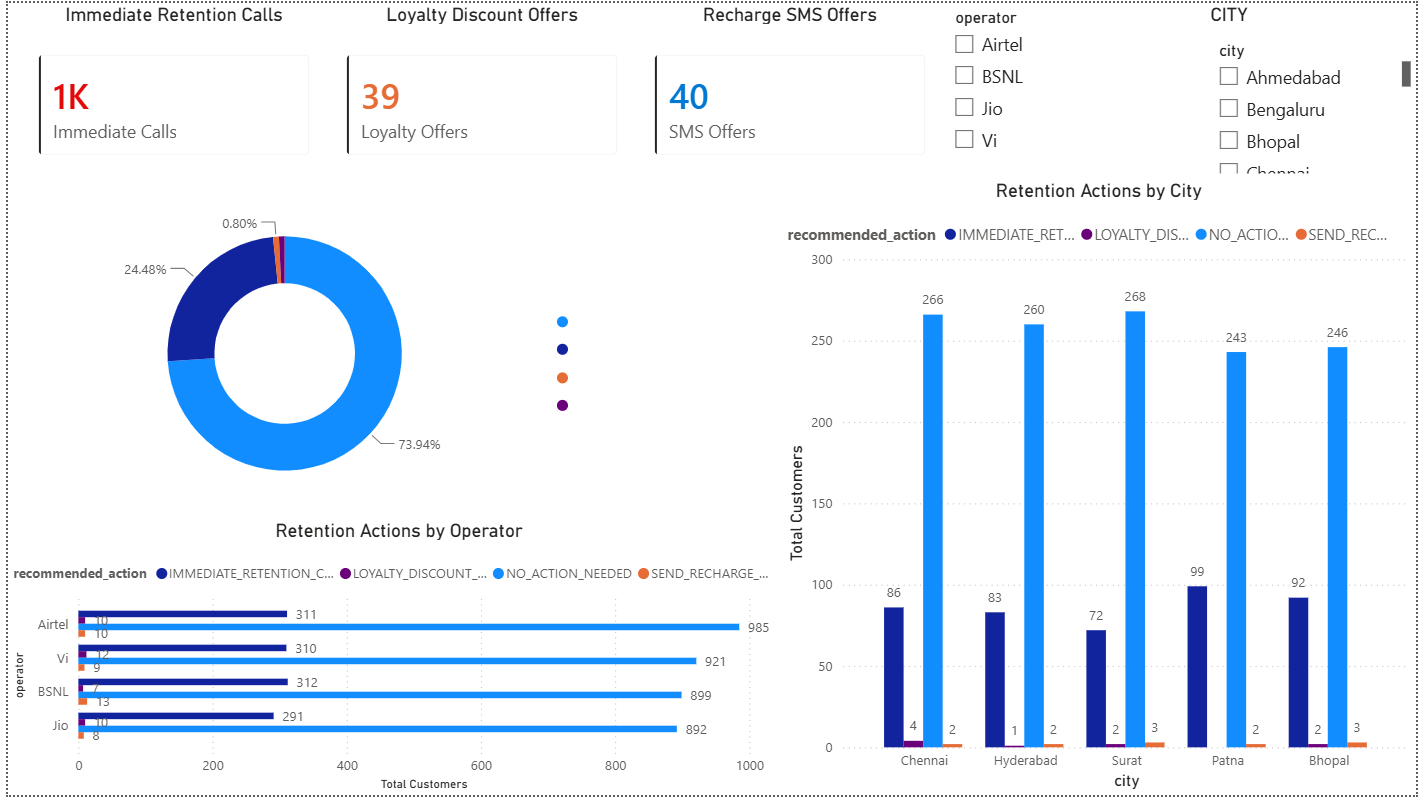

Layout of this report page (visuals, bound fields, positions):
{"tool":"powerbi","page":{"name":"Retention Actions","canvas":[1280,720],"ordinal":3},"visuals":[{"type":"cardVisual","title":"Immediate Retention Calls","fields":{"Data":["fact_churn.Immediate Calls"]},"box":[10.7,0,280,155.2],"z":0},{"type":"cardVisual","title":"Loyalty Discount Offers","fields":{"Data":["fact_churn.Loyalty Offers"]},"box":[290.7,0,280,155],"z":1000},{"type":"cardVisual","title":"Recharge SMS Offers","fields":{"Data":["fact_churn.SMS Offers"]},"box":[570.7,0,280,155],"z":2000},{"type":"donutChart","title":"Retention Action Distribution","fields":{"Category":["dim_customer.recommended_action"],"Y":["fact_churn.Total Customers"]},"box":[0,144,704,320],"z":3000},{"type":"clusteredBarChart","title":"Retention Actions by Operator","fields":{"Category":["dim_customer.operator"],"Series":["dim_customer.recommended_action"],"Y":["fact_churn.Total Customers"]},"box":[0,468.8,710.8,251.1],"z":4000},{"type":"clusteredColumnChart","title":"Retention Actions by City","fields":{"Category":["dim_customer.city"],"Series":["dim_customer.recommended_action"],"Y":["fact_churn.Total Customers"]},"box":[704,160,576,560],"z":5000},{"type":"slicer","fields":{"Values":["dim_customer.operator"]},"box":[848,0,240,160],"z":6000},{"type":"slicer","title":"CITY ","fields":{"Values":["dim_customer.city"]},"box":[1088,0,192,160],"z":7000}]}

Visuals, with their boxes in screenshot pixels (x1, y1, x2, y2), scaled from the page's 1280x720 canvas onto the 1419x807 screenshot:
"Immediate Retention Calls" cardVisual: locate(12, 0, 322, 174)
"Loyalty Discount Offers" cardVisual: locate(322, 0, 633, 174)
"Recharge SMS Offers" cardVisual: locate(633, 0, 943, 174)
"Retention Action Distribution" donutChart: locate(0, 161, 780, 520)
"Retention Actions by Operator" clusteredBarChart: locate(0, 525, 788, 806)
"Retention Actions by City" clusteredColumnChart: locate(780, 179, 1418, 806)
slicer - dim_customer.operator: locate(940, 0, 1206, 179)
"CITY " slicer: locate(1206, 0, 1418, 179)
